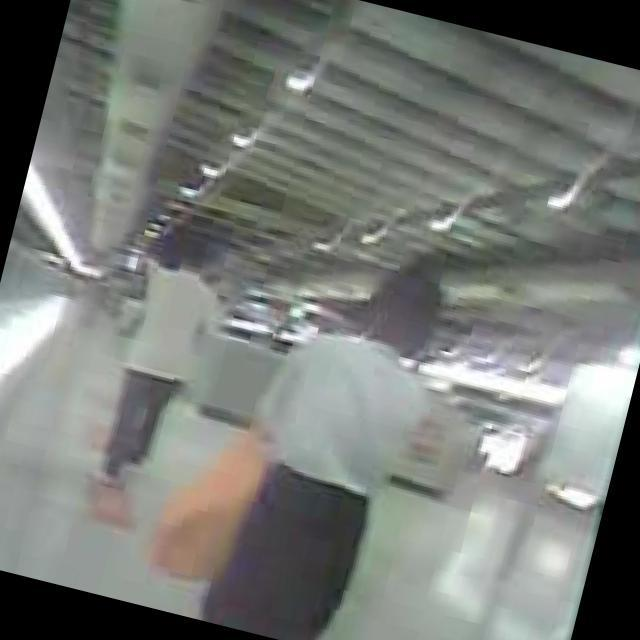person: (197, 238, 458, 640), (84, 223, 234, 503)
